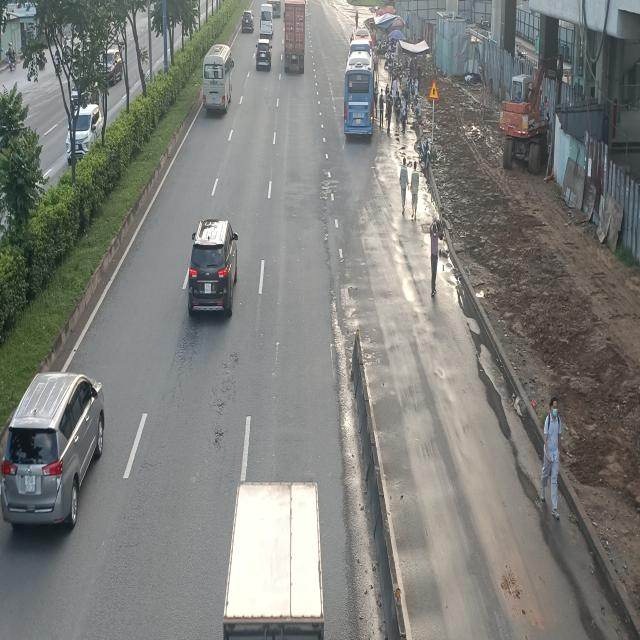car: (2, 370, 108, 528), (187, 222, 240, 319), (256, 40, 274, 72), (241, 9, 255, 32)
coach: (345, 37, 373, 138), (202, 43, 233, 114)
container: (282, 1, 307, 75)
van: (260, 5, 274, 37)
